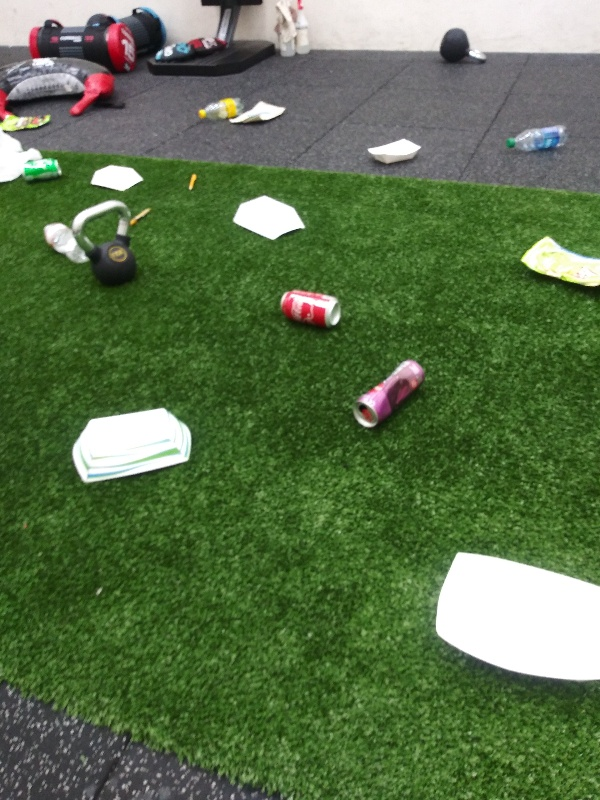bag: (516, 233, 600, 292), (226, 99, 294, 128), (1, 112, 56, 132)
bottle: (41, 219, 94, 264), (505, 122, 572, 150), (196, 94, 246, 122)
can: (350, 358, 429, 431), (274, 287, 344, 331), (19, 154, 67, 181)
plate: (431, 549, 600, 693), (70, 406, 194, 490), (231, 192, 309, 242), (362, 138, 423, 166), (85, 164, 145, 192)
